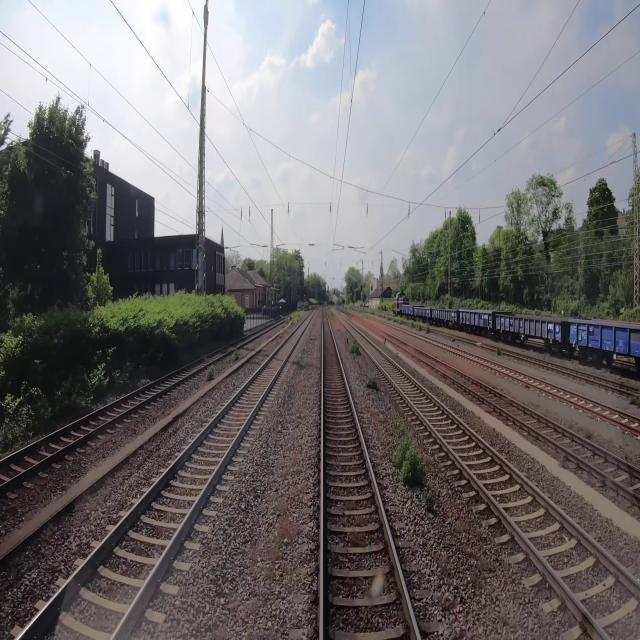Plant: (389, 425, 446, 524), (364, 310, 418, 329), (362, 370, 381, 399), (284, 306, 308, 327), (347, 332, 364, 361), (205, 364, 215, 381), (230, 348, 239, 364), (418, 324, 423, 332), (426, 326, 430, 335)
